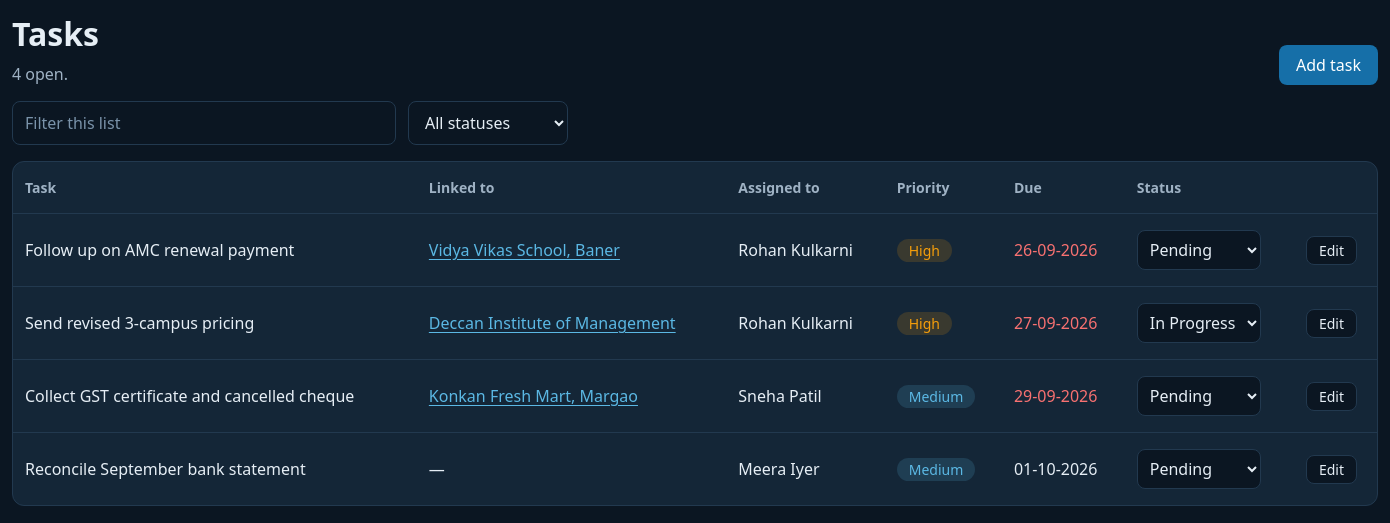
Test: TasksPanel › filters by text and by status
Select "In Progress" in the 1st dropdown named "Status". click: (488, 123)
box: [408,101,568,145]
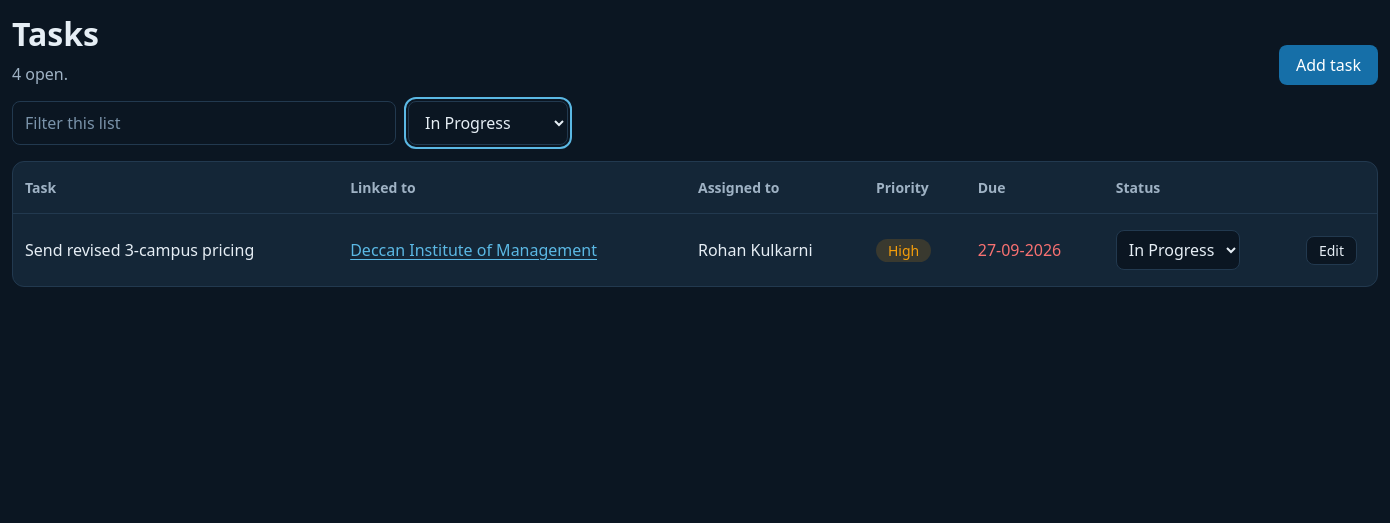
Select "All statuses" in the 1st dropdown named "Status". click: (488, 123)
box: [408,101,568,145]
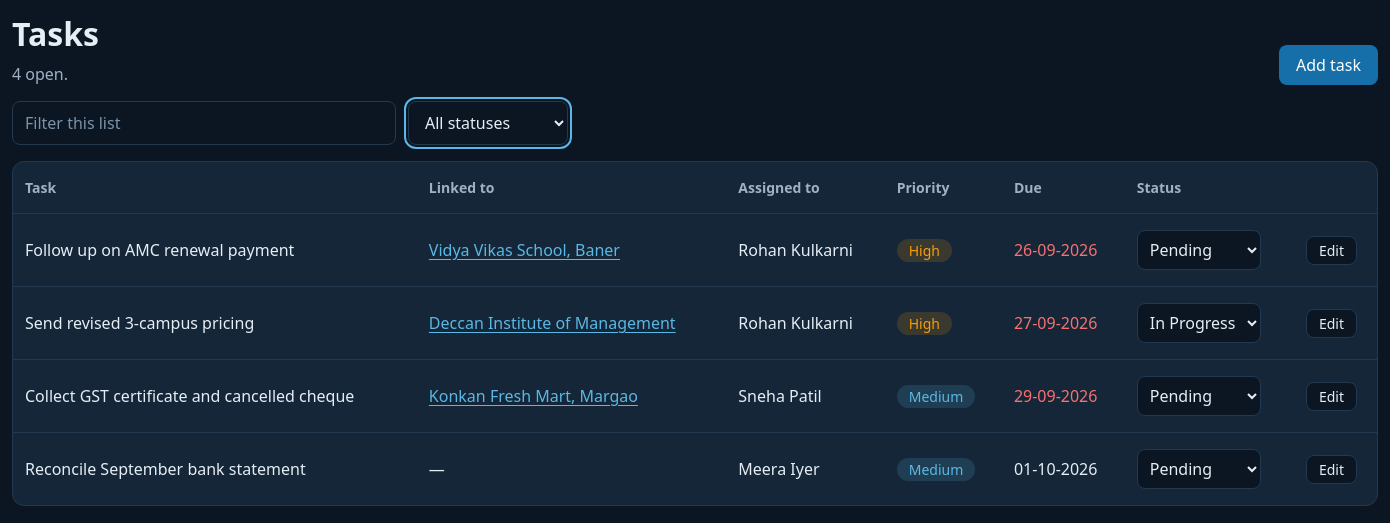
Type "no such task" into the search field named "Filter tasks". click: (204, 123)
box: [12,101,396,145]
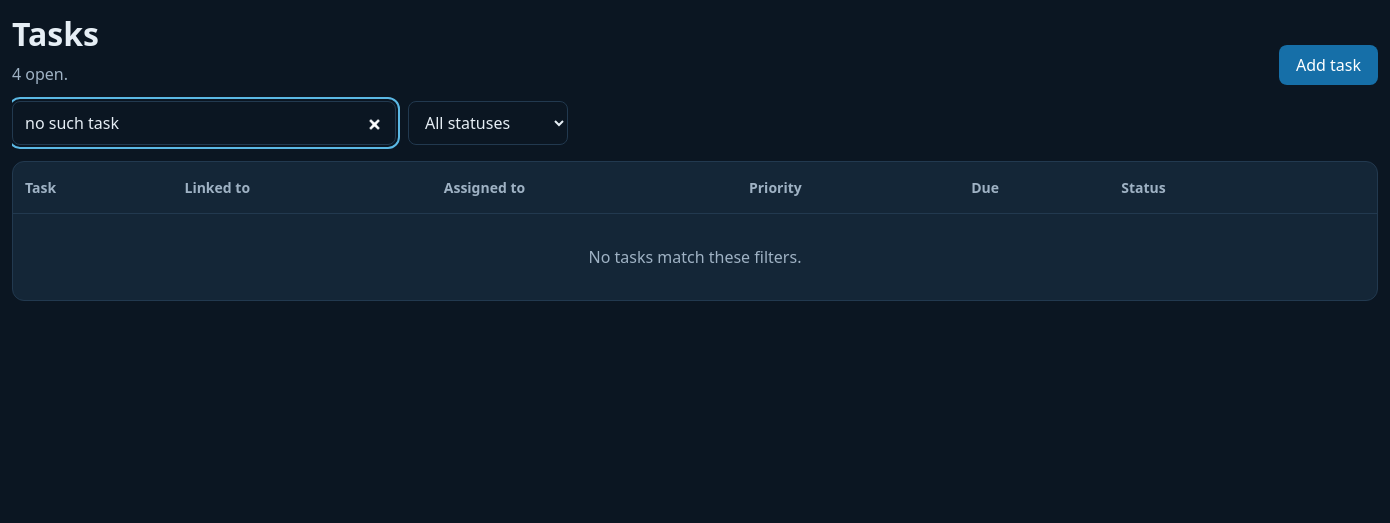
Check: the text "No tasks match these filters." is shown, box [13,214,1377,300]
